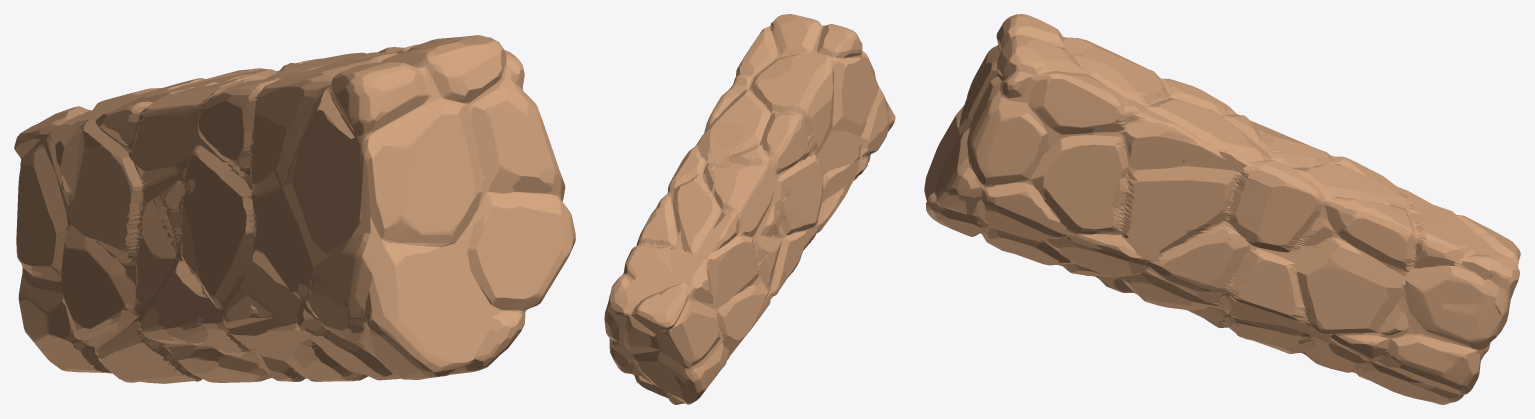
3 views of the same model, side by side, from view 1: azimuth 30°, elevation 25°; view 2: azimuth 150°, elevation 25°; view 3: azimuth 270°, elevation 25° (orthographic). The views are drawn at different scales.
Parts seen in each view (by area): view 1: Mesh_79_LOD0; view 2: Mesh_79_LOD0; view 3: Mesh_79_LOD0.
Boxes of the visible parts, x1,y1,x2,y2 form: Mesh_79_LOD0: [14, 35, 575, 383]; Mesh_79_LOD0: [604, 14, 895, 404]; Mesh_79_LOD0: [924, 14, 1520, 404].
Size of what is drawn, in the model's own units: 1997 by 4459 by 6452.
